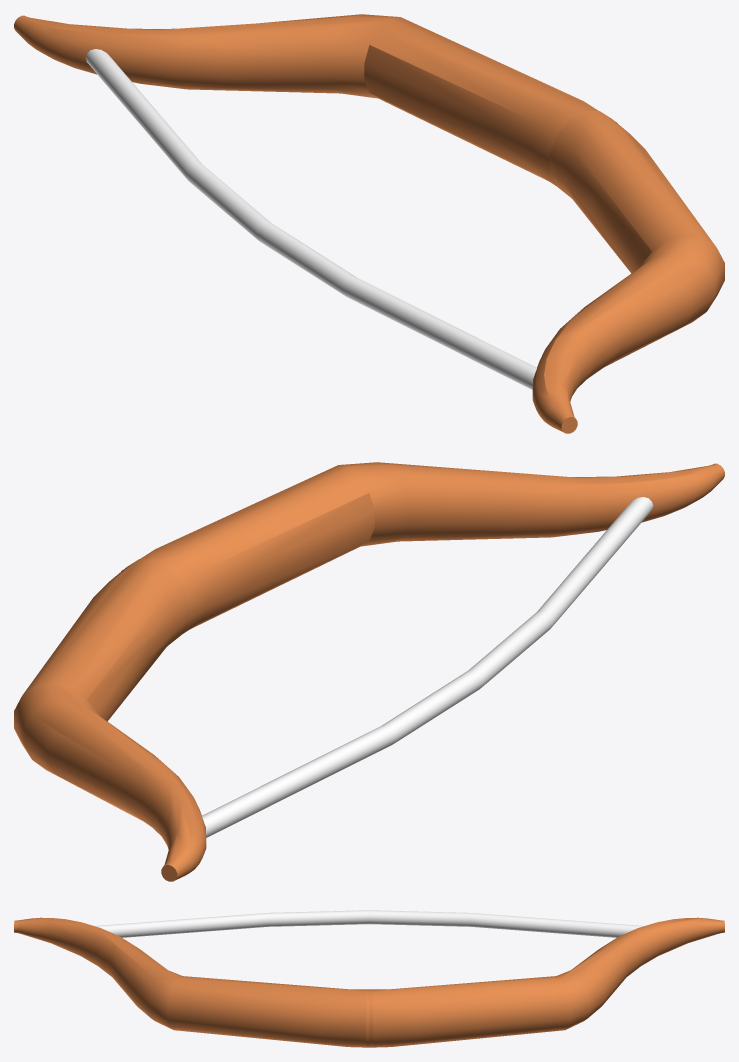
The model's file is Bow.fbx.
3 views of the same model, one above another, from view 1: azimuth 30°, elevation 25°; view 2: azimuth 150°, elevation 25°; view 3: azimuth 270°, elevation 25° (orthographic). The views are drawn at different scales.
Visible parts, largest first — view 1: Bow; view 2: Bow; view 3: Bow.
Part boxes in pixels (box(x1,y1,x2,y2)): Bow: box(14, 14, 724, 433); Bow: box(14, 462, 724, 881); Bow: box(14, 910, 724, 1047).
Bounding box in the file's own units: 119 × 25.6 × 309.
